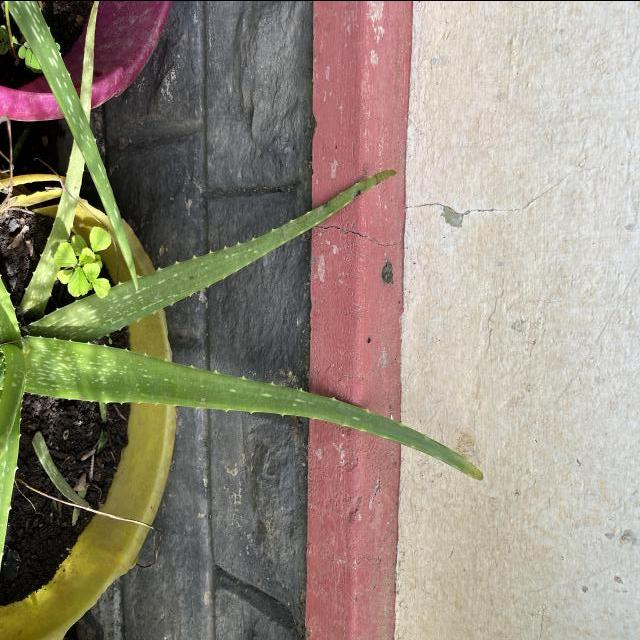Aloe vera: (17, 332, 490, 486)
